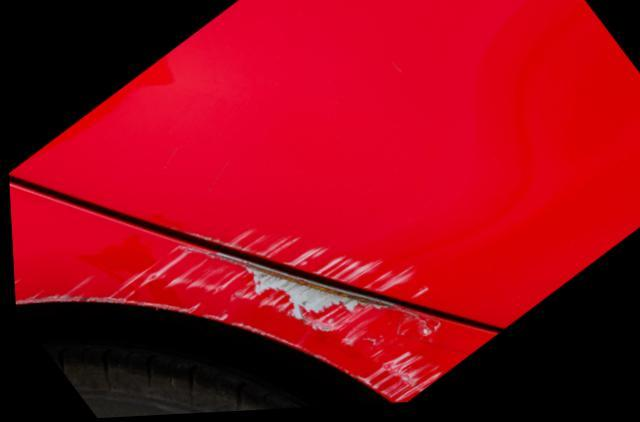scratch: (11, 242, 440, 407), (183, 227, 428, 308)
